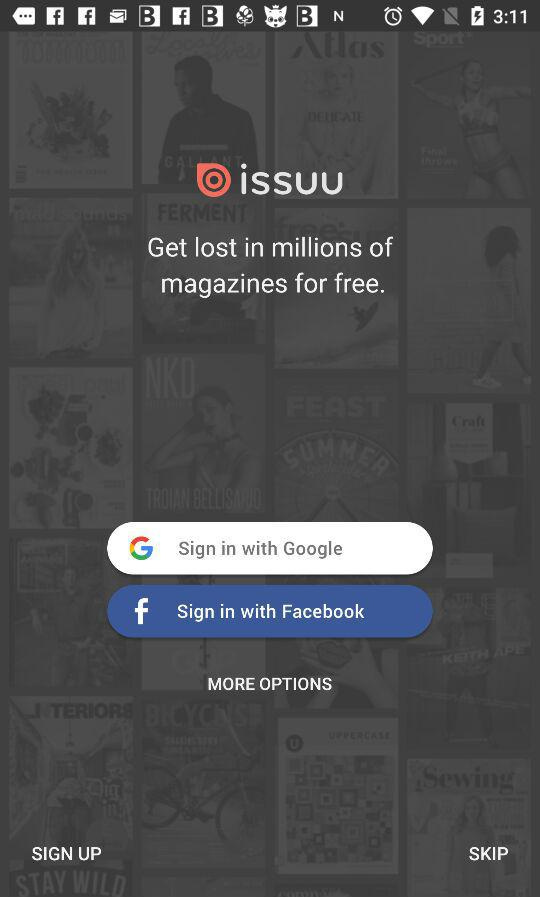BackgroundImage: (1, 33, 540, 897)
Image: (196, 162, 344, 200)
Text: (148, 236, 394, 300), (207, 677, 333, 692), (32, 846, 103, 862), (468, 846, 509, 862)
TextButton: (107, 522, 434, 576), (107, 585, 434, 639)
UpperTaskBar: (1, 1, 540, 33)
